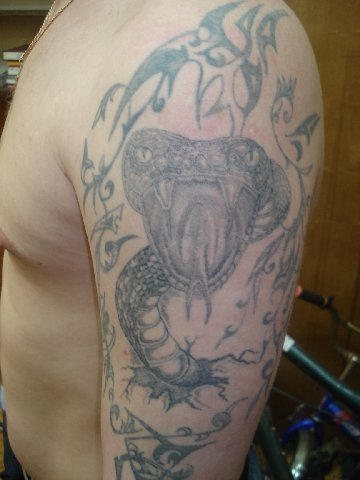tatu7_zmeya: (119, 112, 290, 392)
